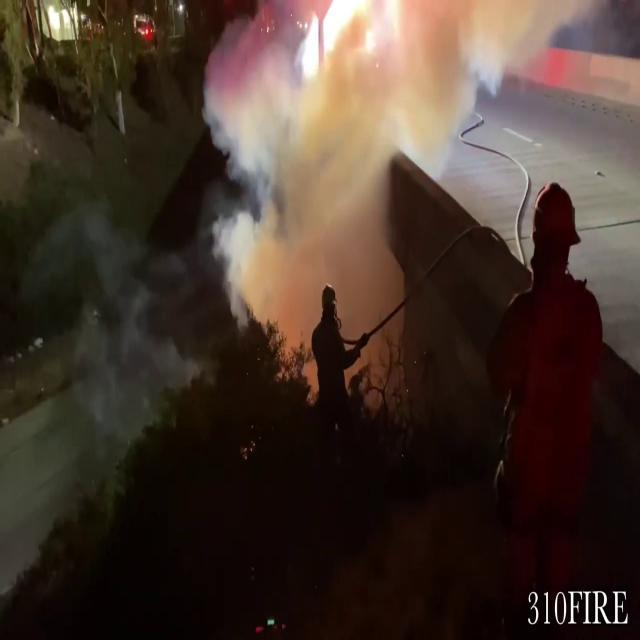Smoke: (207, 0, 434, 362), (44, 186, 182, 492)
